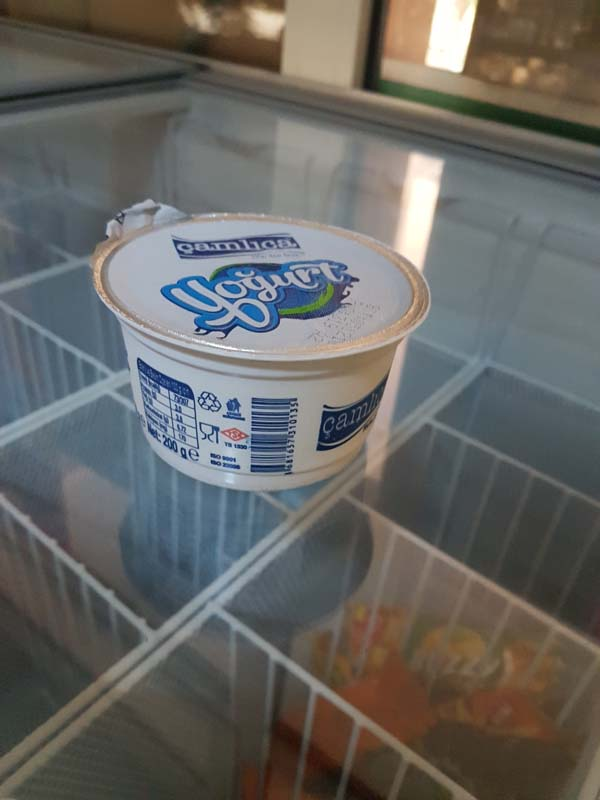camlicayogurt: (94, 197, 435, 494)
